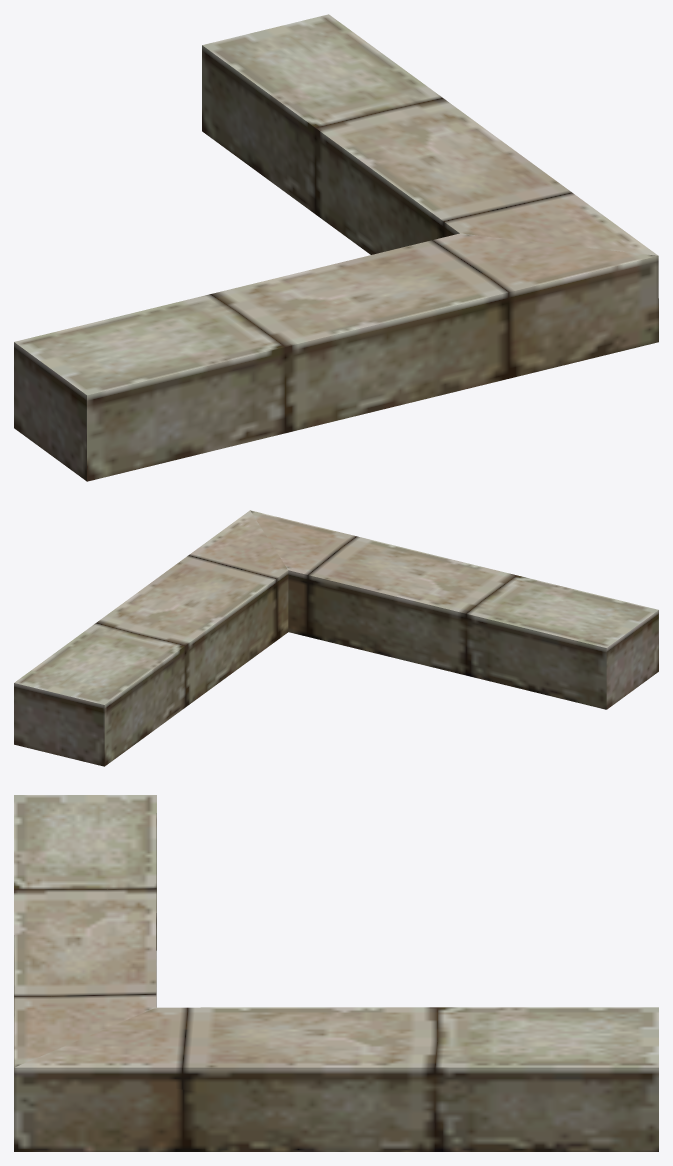
File: nml-bd078.glb
3 views of the same model, one above another, from view 1: azimuth 30°, elevation 25°; view 2: azimuth 150°, elevation 25°; view 3: azimuth 270°, elevation 25° (orthographic). The views are drawn at different scales.
Parts seen in each view (by area): view 1: geom_node_0; view 2: geom_node_0; view 3: geom_node_0.
Boxes of the visible parts, bbox=[...] form: geom_node_0: bbox=[14, 14, 658, 481]; geom_node_0: bbox=[14, 510, 658, 766]; geom_node_0: bbox=[14, 795, 658, 1151].
Size of the model in its own units: 2.01 by 0.29 by 2.01.
Materials: 1 (1 with a texture image).
